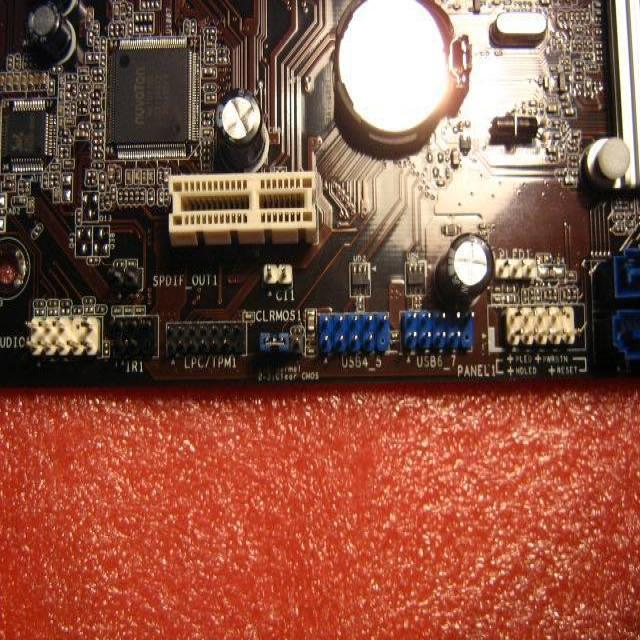other: (338, 7, 463, 141), (466, 428, 541, 532)
